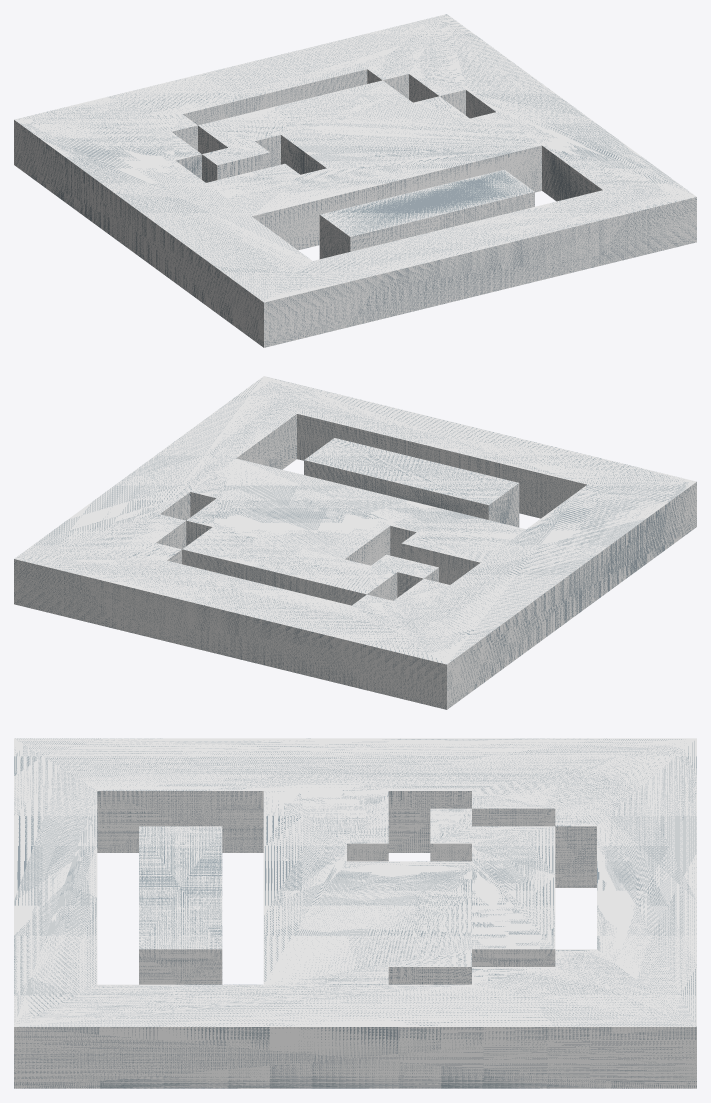
3 views of the same model, one above another, from view 1: azimuth 30°, elevation 25°; view 2: azimuth 150°, elevation 25°; view 3: azimuth 270°, elevation 25° (orthographic). The views are drawn at different scales.
Visible parts, largest first — view 1: Model; view 2: Model; view 3: Model.
Boxes of the visible parts, x1,y1,x2,y2 form: Model: [14, 14, 696, 347]; Model: [14, 376, 696, 709]; Model: [14, 738, 696, 1088].
Bounding box in the file's own units: 5 × 0.5 × 5.
